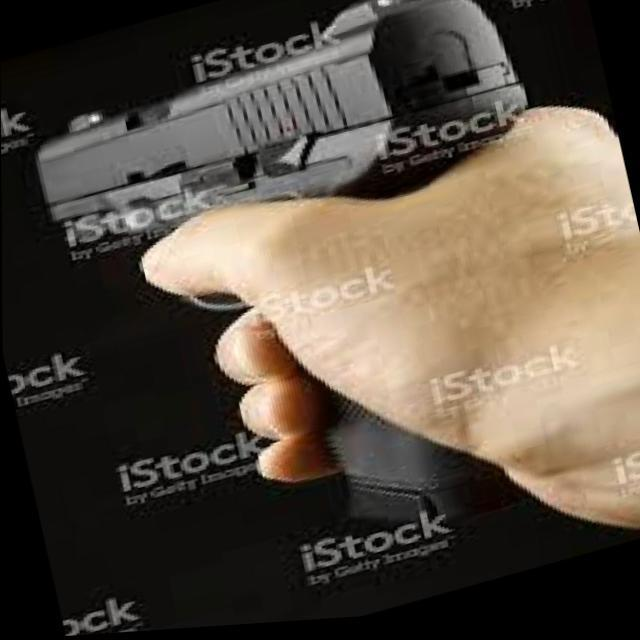weapon: (13, 0, 616, 625)
